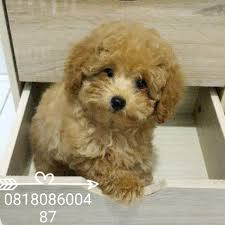Poodle: (20, 7, 176, 202)
